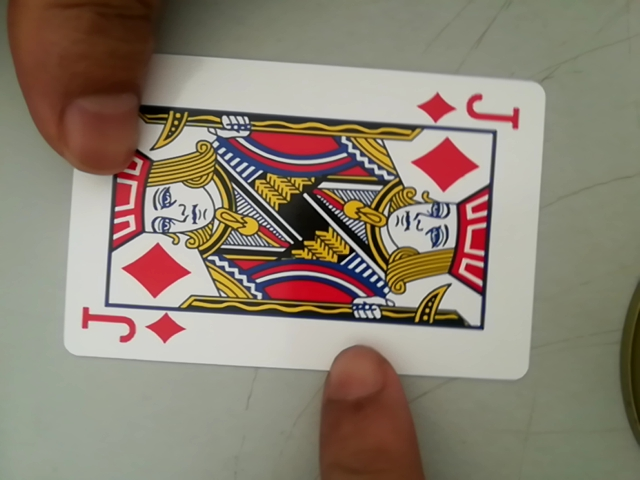fk j: (71, 304, 188, 355), (421, 89, 527, 130)
